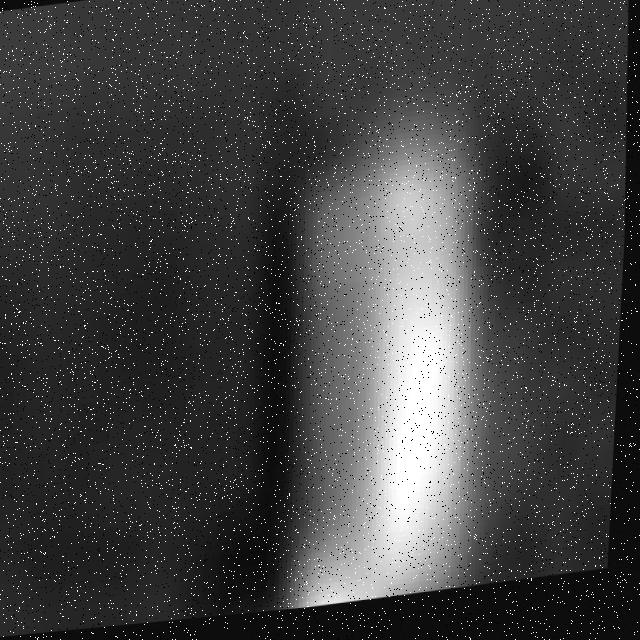person: (225, 87, 527, 622)
